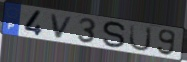3: (77, 18, 99, 45)
4: (23, 9, 45, 38)
9: (158, 29, 178, 57)
S: (102, 21, 128, 50)
U: (127, 23, 154, 52)
V: (49, 13, 75, 40)
